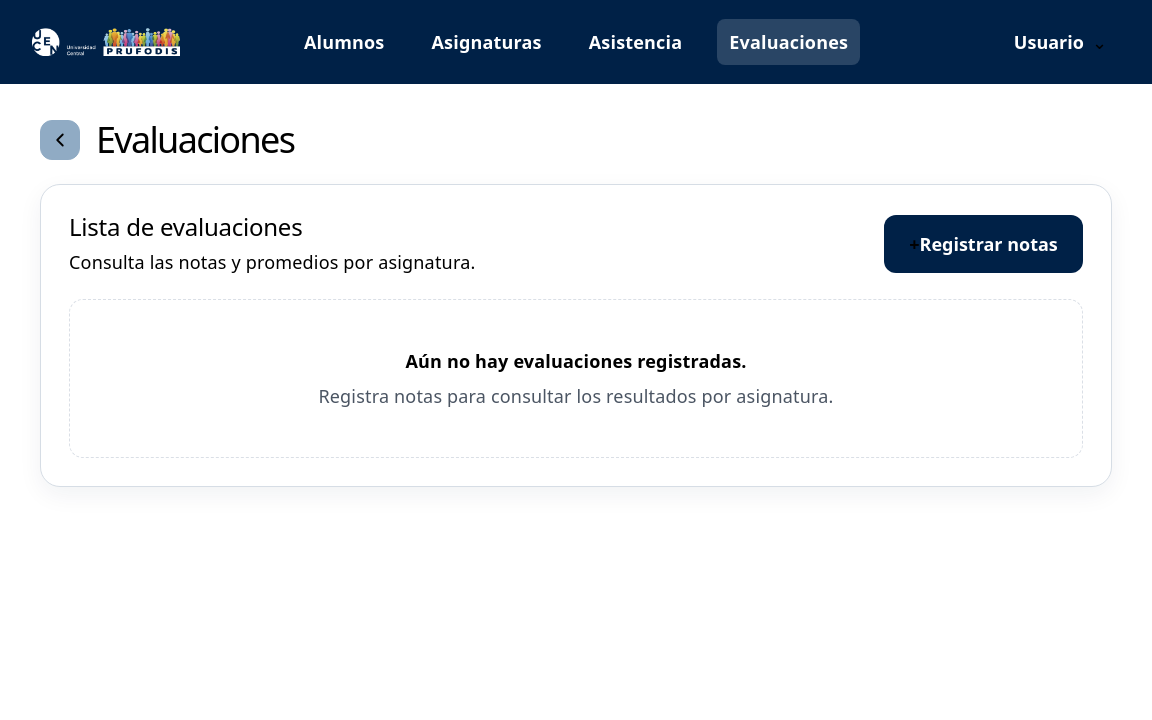
Test: EvaluacionesPage: registro de notas › CP-03/04: acepta la nota válida 1,0
The width and height of the screenshot is (1152, 720).
Click the button "+ Registrar notas": [984, 244] box [884,215,1083,274]
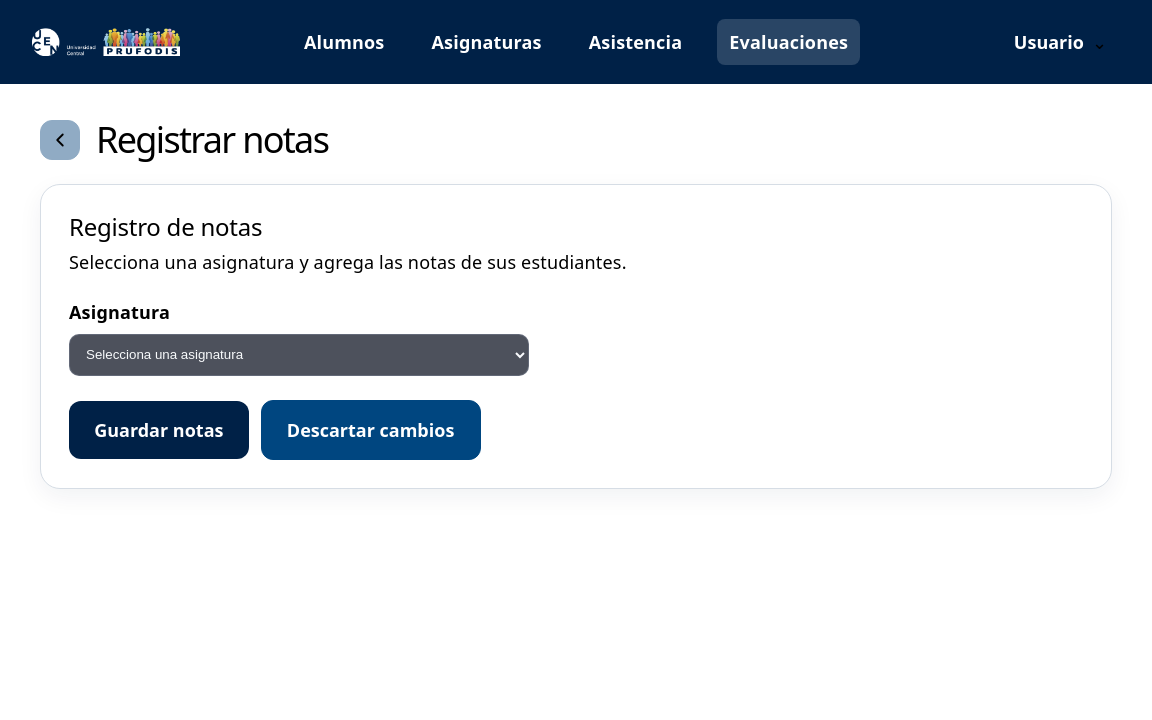
Select "Matemáticas" in the dropdown labelled "Asignatura": [299, 354] box [69,334,529,376]
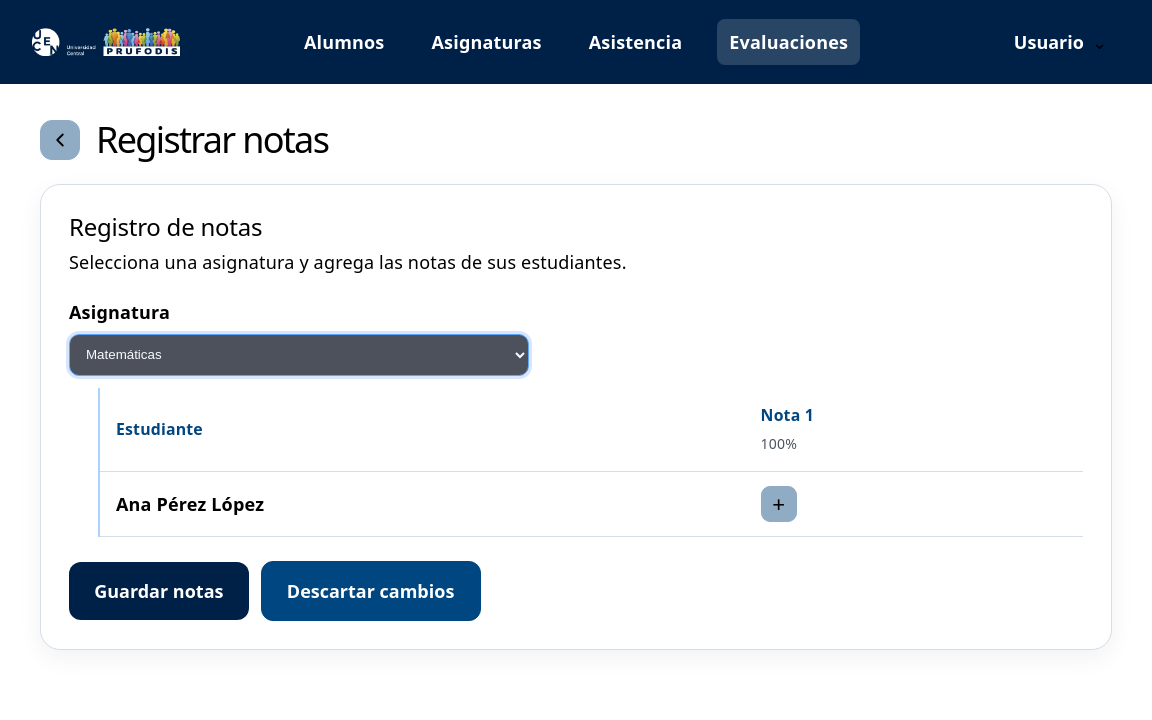
Click the button named "Agregar nota 1 a Ana Pérez López": [779, 504] box [761,486,797,522]
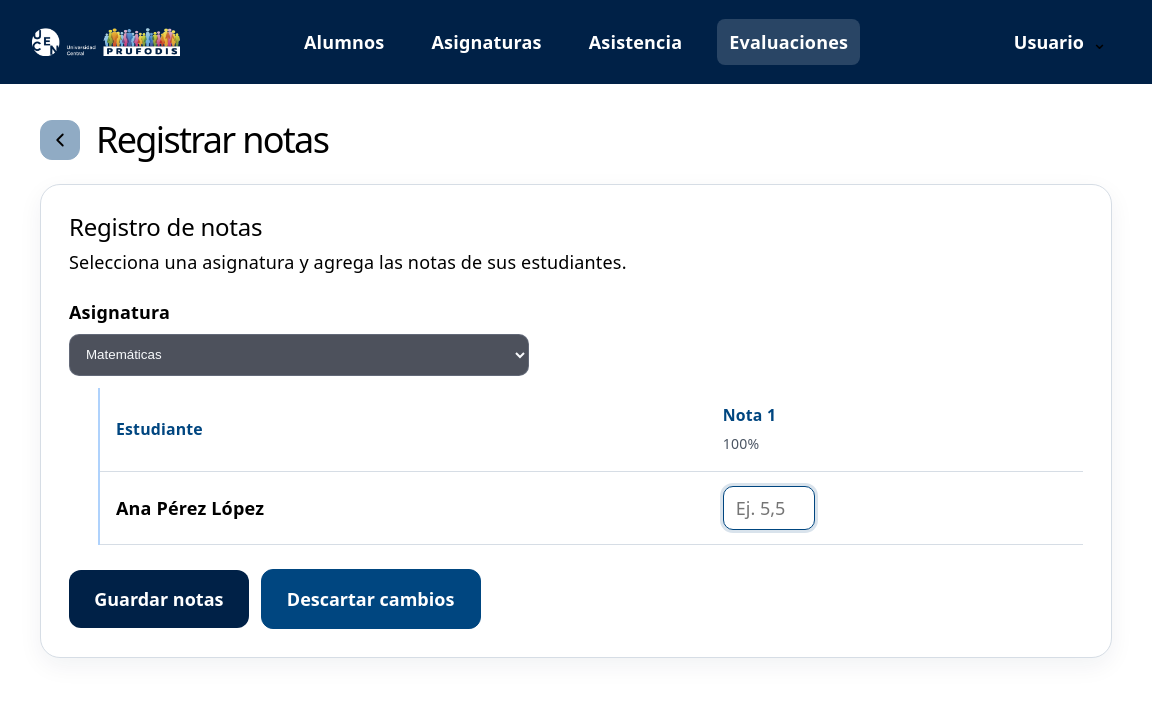
In the field named "Nota 1 de Ana Pérez López": [769, 508] box [723,486,815,530], type "1,0"
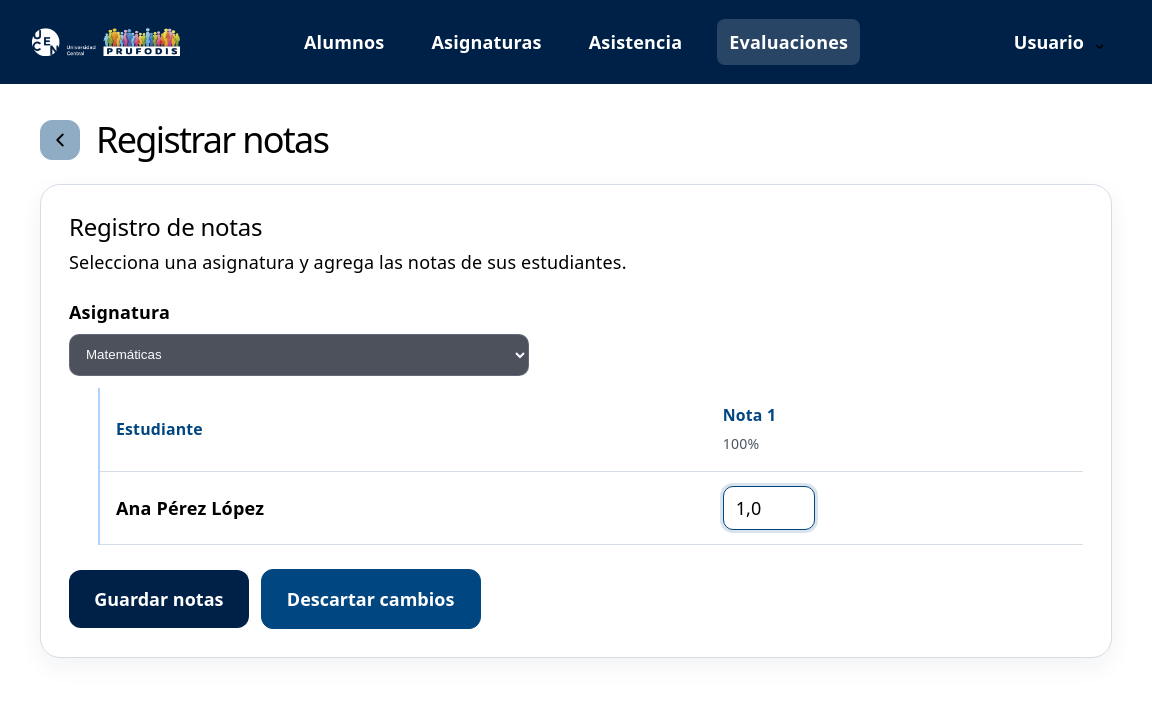
Press Enter
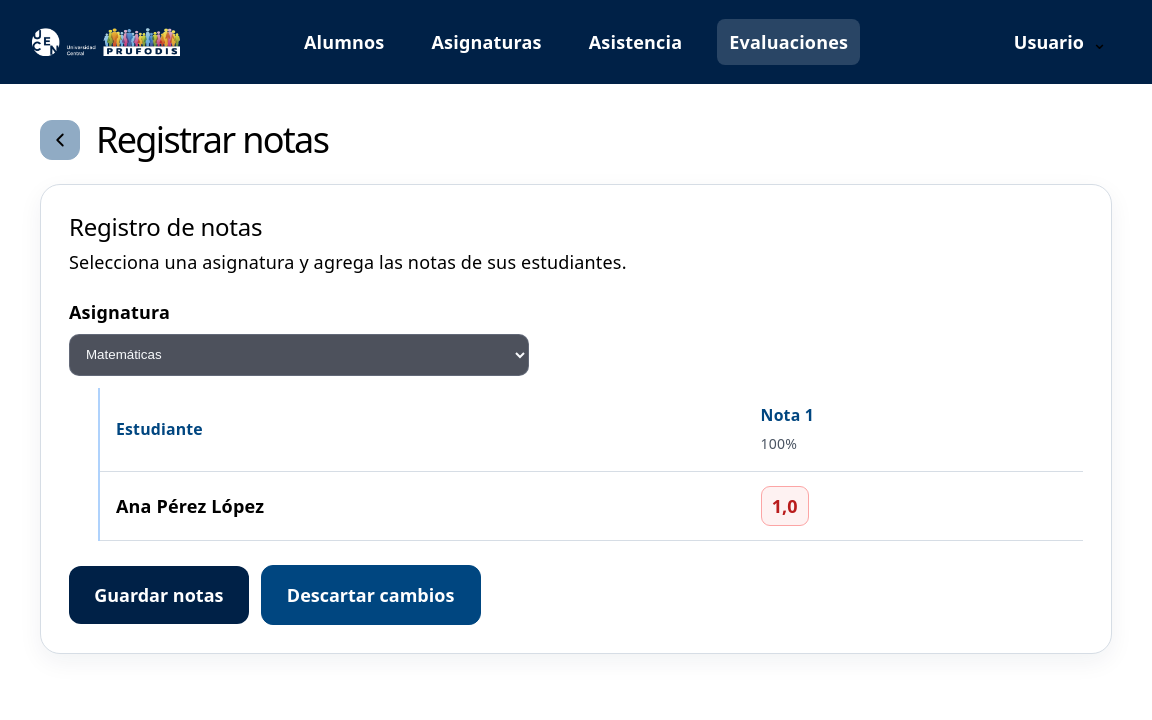
Expected: the button "1,0" is shown, [761,486,809,526]
